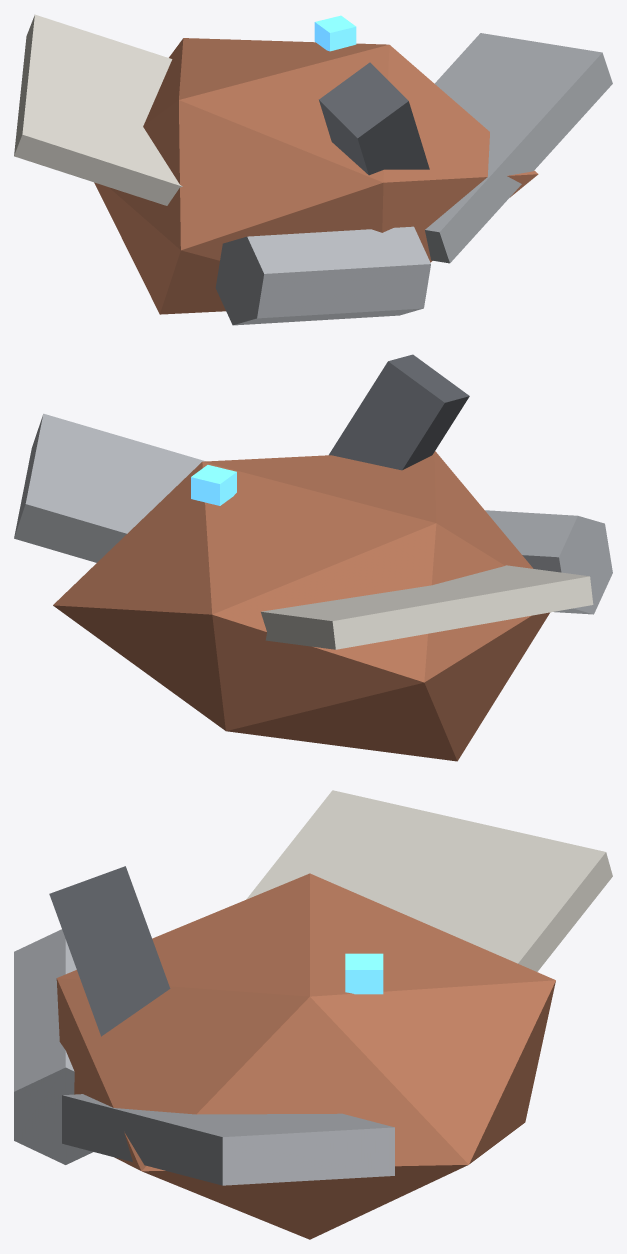
File: ScrapPile.glb
3 views of the same model, one above another, from view 1: azimuth 30°, elevation 25°; view 2: azimuth 150°, elevation 25°; view 3: azimuth 270°, elevation 25° (orthographic). The views are drawn at different scales.
Parts seen in each view (by area): view 1: ScrapPile; view 2: ScrapPile; view 3: ScrapPile.
Part boxes in pixels (x1,y1,x2,y2): ScrapPile: [14, 14, 612, 325]; ScrapPile: [14, 354, 612, 761]; ScrapPile: [14, 790, 612, 1239].
Size of the model in its own units: 2.93 by 1.39 by 2.21.
